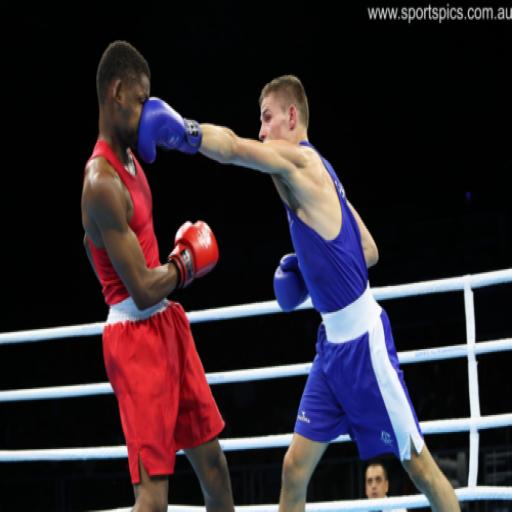boxing: (135, 72, 462, 510), (80, 38, 235, 510)
